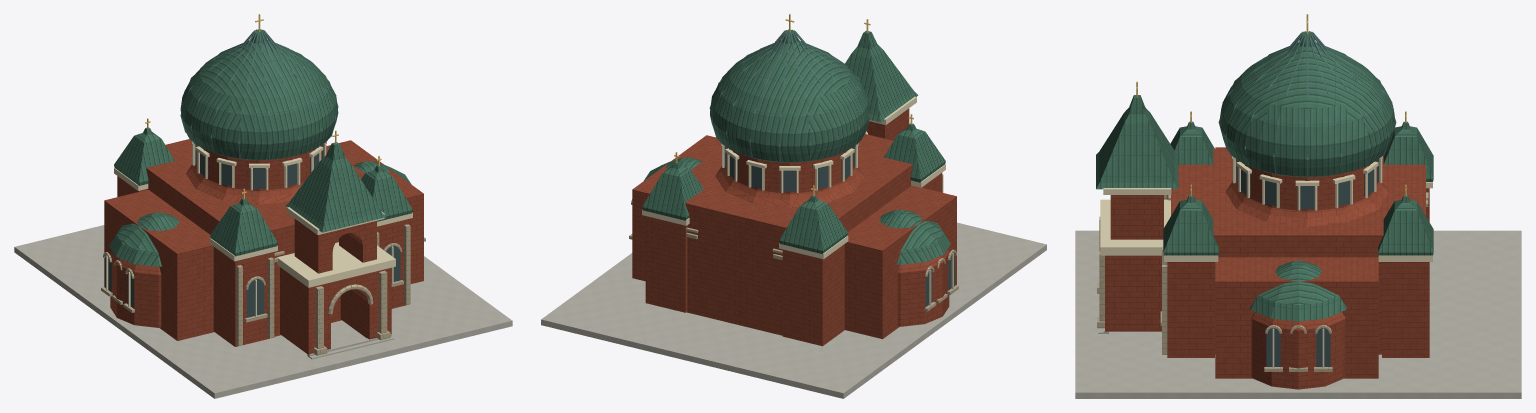
File: saint-sophia.glb
The picture shows the model from 3 angles, left to right: view 1: azimuth 30°, elevation 25°; view 2: azimuth 150°, elevation 25°; view 3: azimuth 270°, elevation 25°; orthographic projection. The views are drawn at different scales.
Parts seen in each view (by area): view 1: 圣索菲亚教堂; view 2: 圣索菲亚教堂; view 3: 圣索菲亚教堂.
Boxes of the visible parts, x1,y1,x2,y2 form: 圣索菲亚教堂: [14, 14, 512, 398]; 圣索菲亚教堂: [541, 14, 1046, 398]; 圣索菲亚教堂: [1075, 14, 1521, 398].
Bounding box in the file's own units: 12.8 × 11.17 × 14.9.
8 materials, 4 textured.
